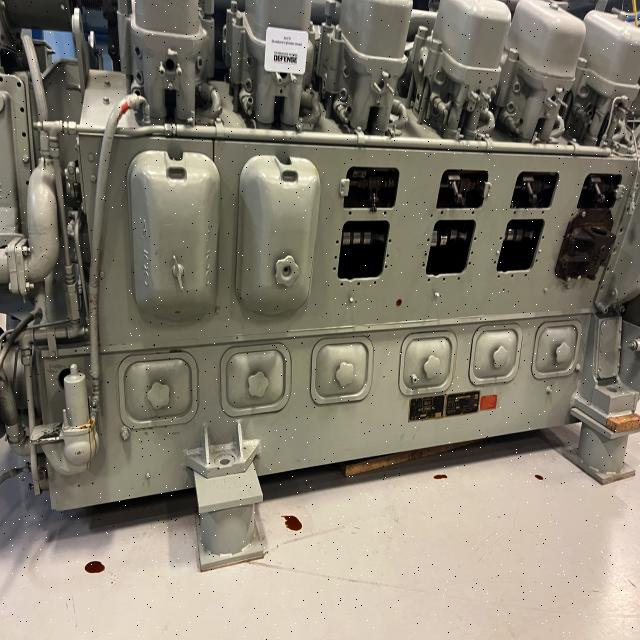Oil Leak: (76, 418, 98, 460), (281, 515, 302, 531), (85, 561, 105, 573), (434, 474, 447, 479), (534, 474, 543, 480)
